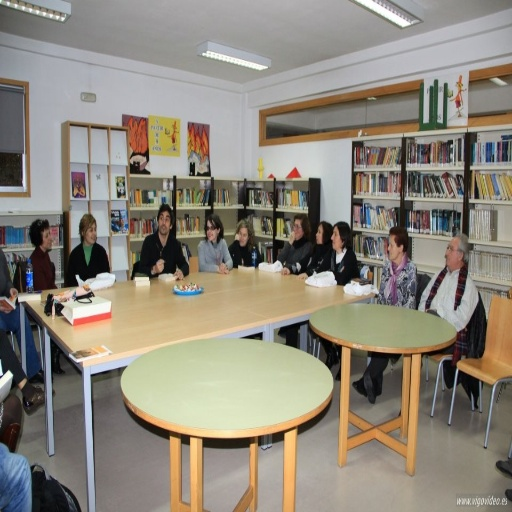hand: (152, 256, 165, 275), (173, 267, 184, 283), (278, 265, 291, 277), (0, 305, 13, 316), (9, 287, 19, 300), (294, 271, 307, 281), (286, 229, 294, 245), (216, 261, 226, 273)
